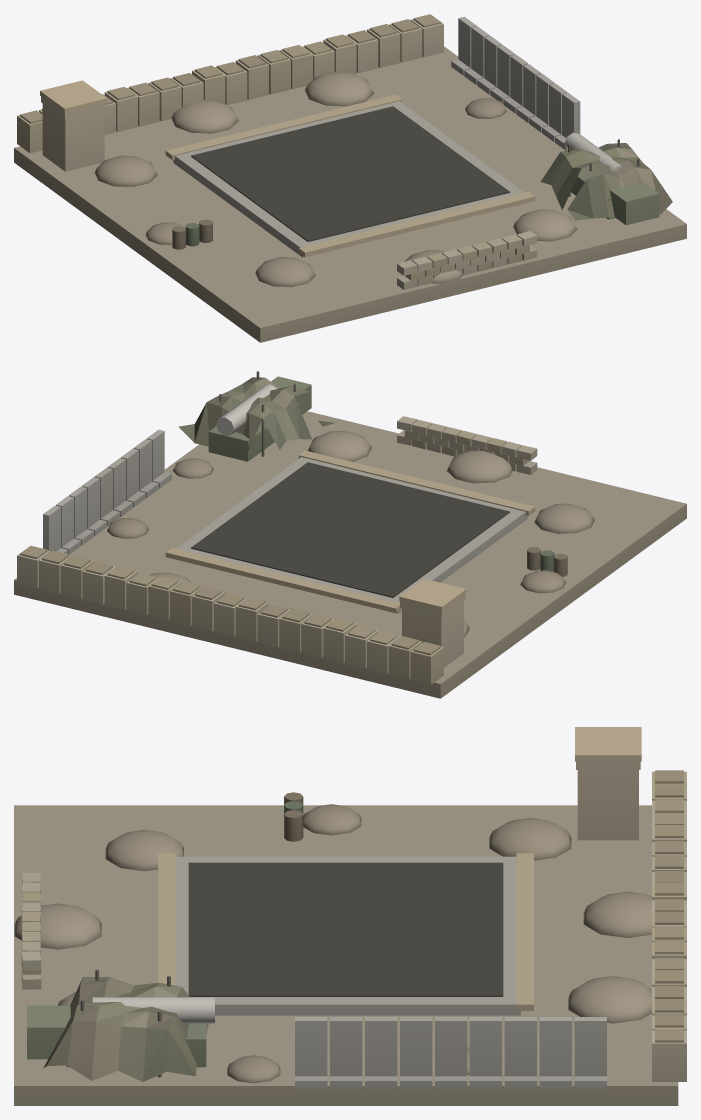
File: m_uplink_a3ca640a.glb
3 renders of one model, top to bottom at view 1: azimuth 30°, elevation 25°; view 2: azimuth 150°, elevation 25°; view 3: azimuth 270°, elevation 25°, orthographic. The views are drawn at different scales.
Parts seen in each view (by area): view 1: mesh; view 2: mesh; view 3: mesh.
Part boxes in pixels (left/top/right/bottom): mesh: left=14, top=14, right=686, bottom=342; mesh: left=14, top=371, right=686, bottom=698; mesh: left=14, top=727, right=686, bottom=1105.
Size of the model in its own units: 78.63 by 13.4 by 77.
